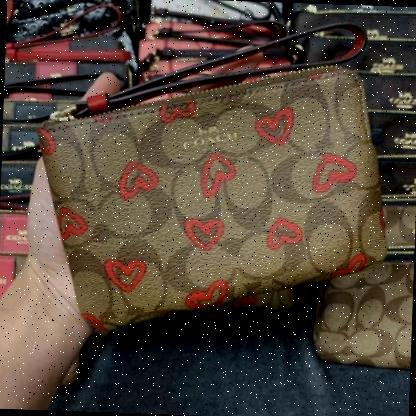bag: (24, 7, 404, 356)
